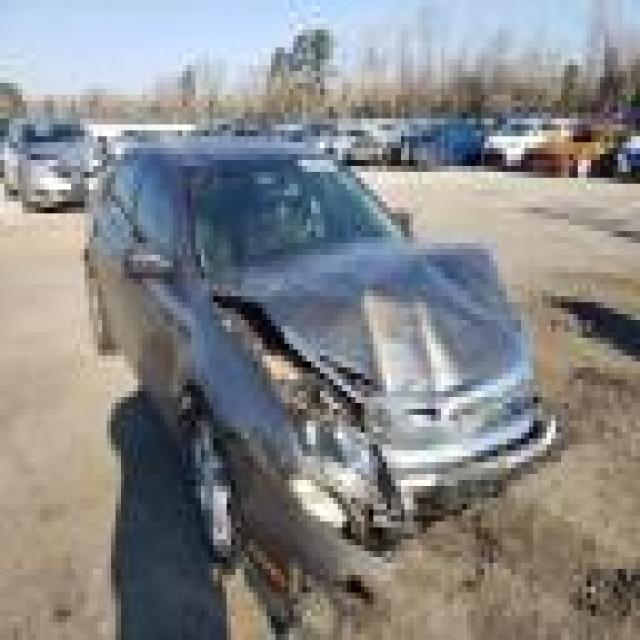severe: (125, 252, 556, 561)
